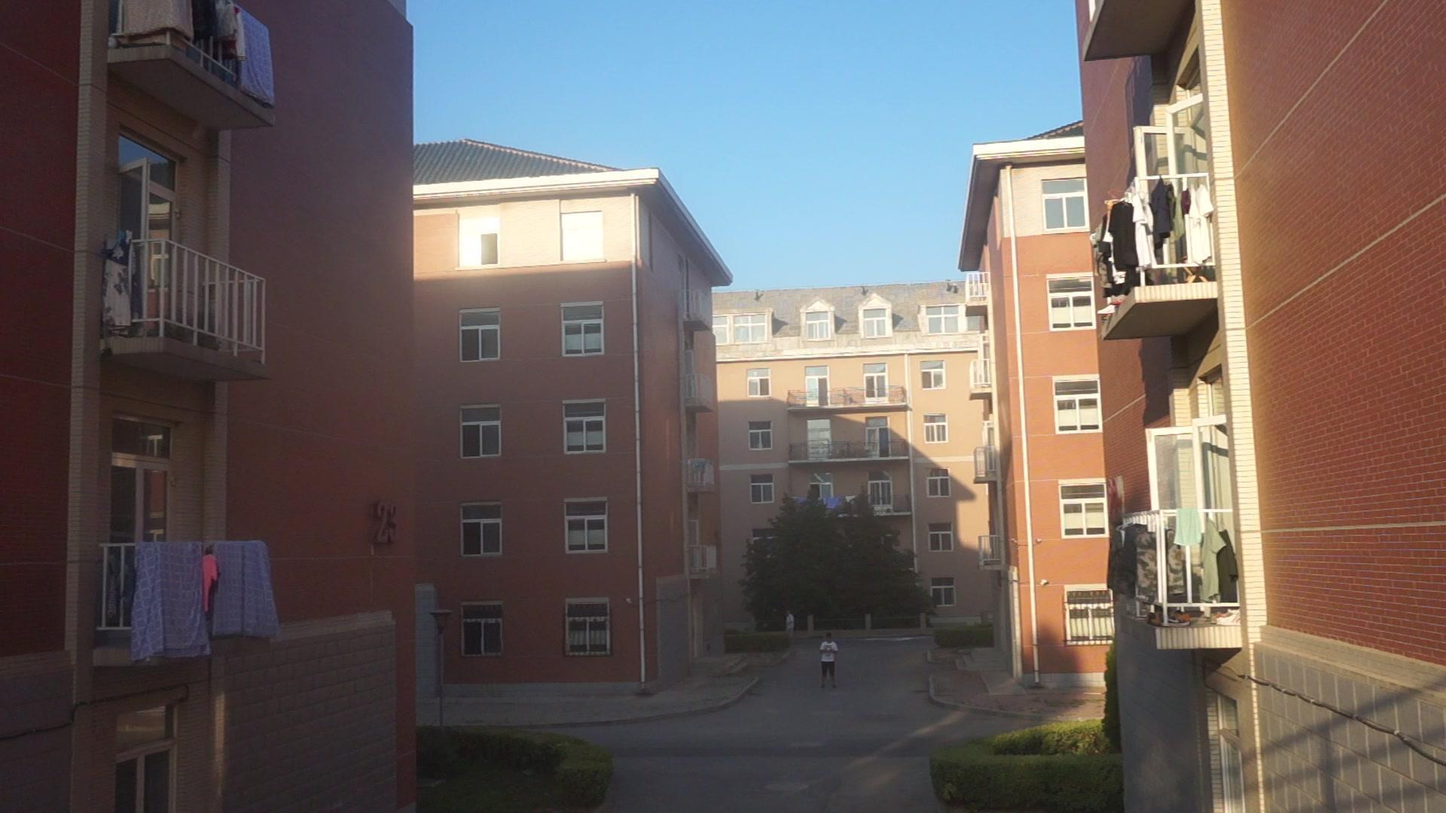UAV: (681, 457, 711, 471)
